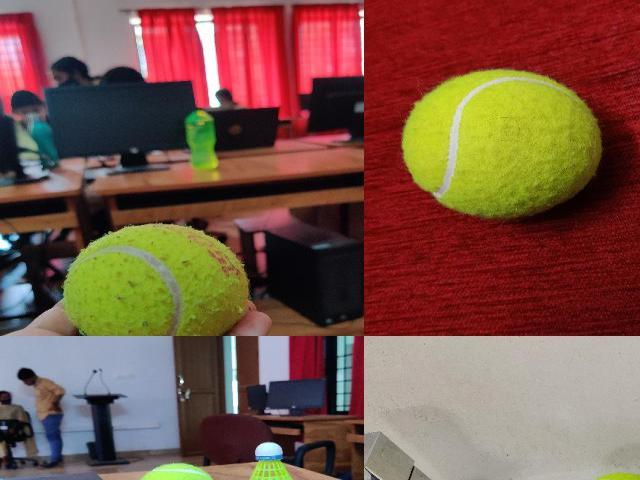tennis-ball: (401, 69, 601, 219), (63, 223, 250, 336), (135, 463, 217, 479)
